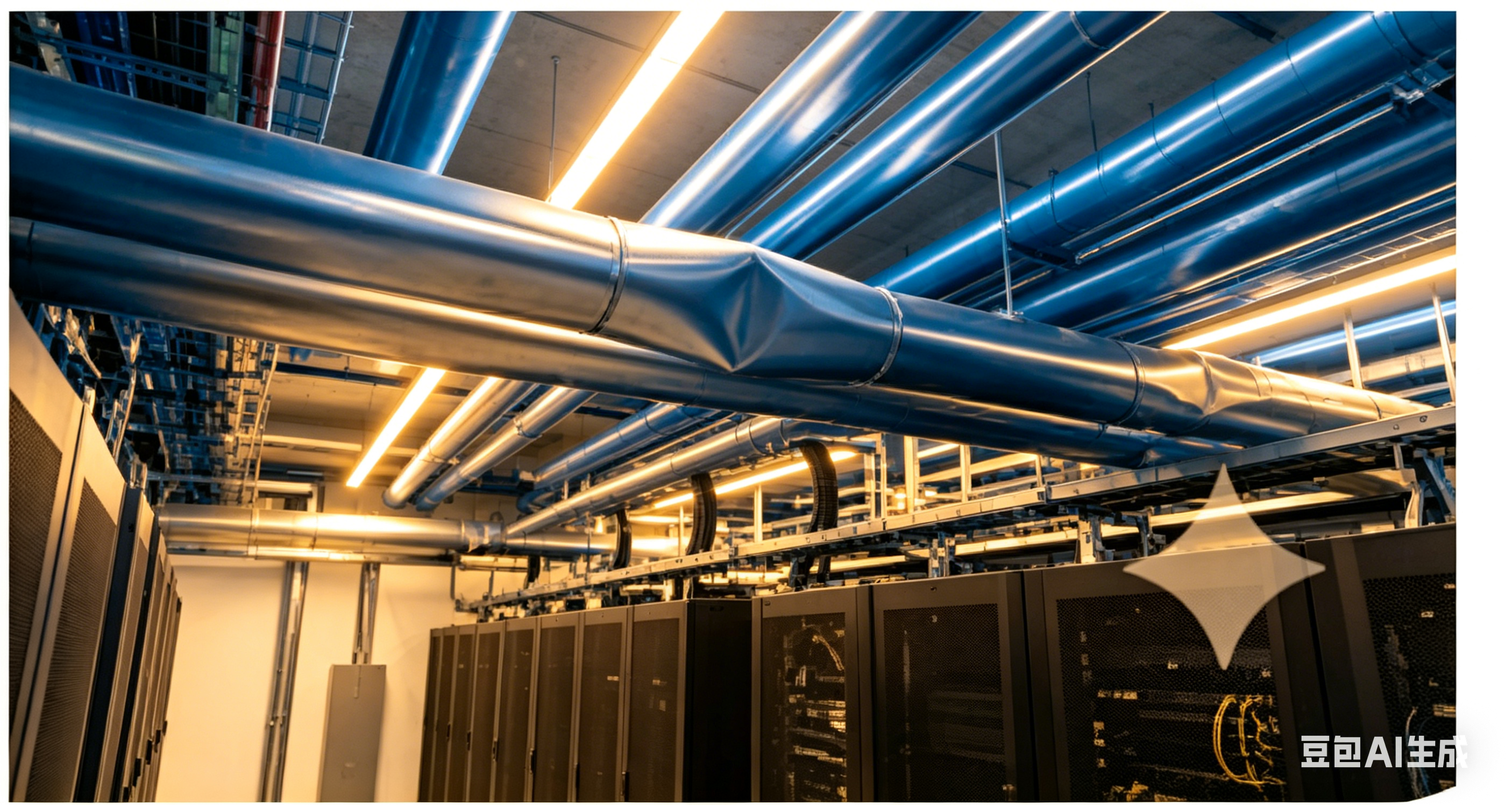Leakage: (679, 238, 845, 384)
